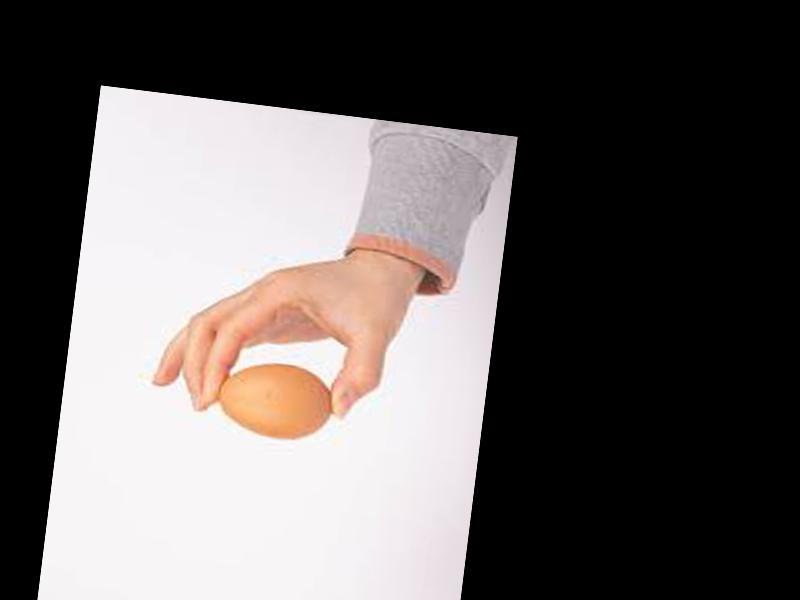Eggs: (211, 358, 333, 444)
